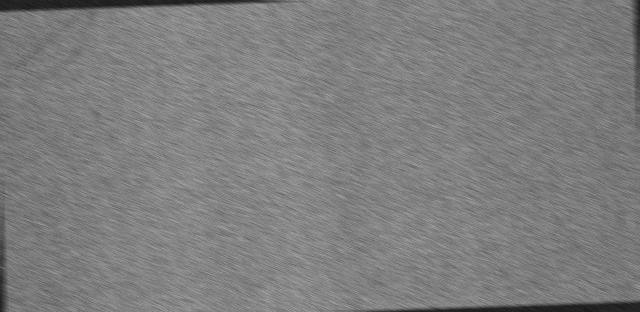water_spot: (0, 7, 124, 96)
